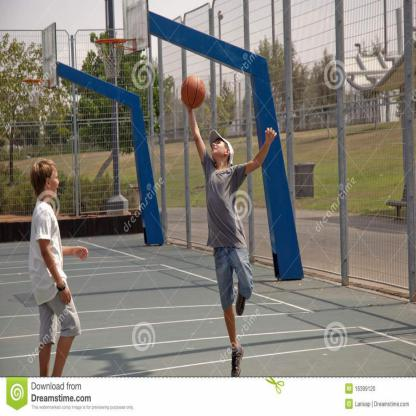face: (48, 166, 60, 198), (212, 139, 226, 154)
